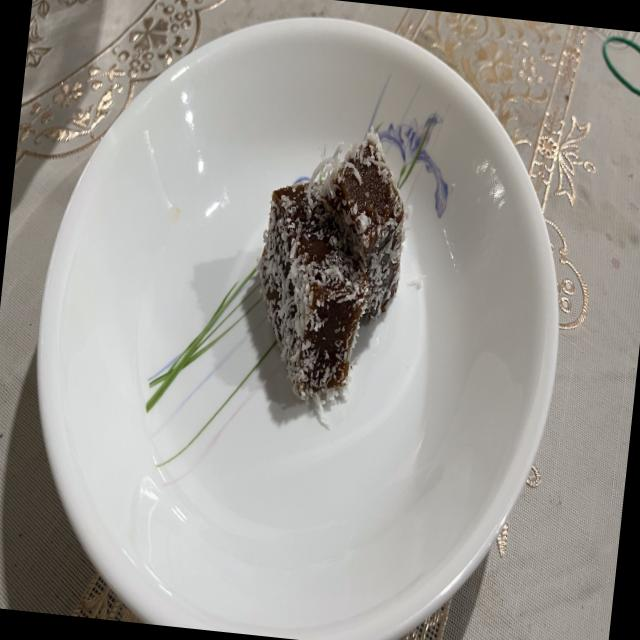kaswi: (255, 181, 365, 398), (325, 126, 404, 328)
